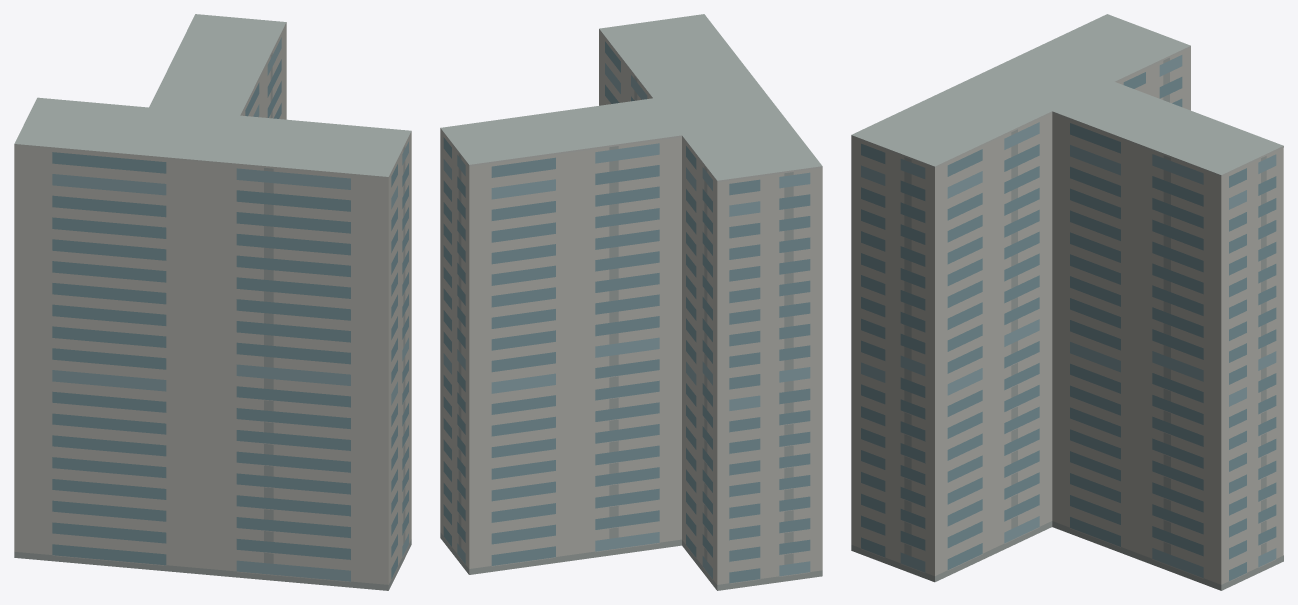
The model's file is residential-c745f206-960c-4d0f-bd46-d00c1bb6f246.glb.
The picture shows the model from 3 angles, left to right: view 1: azimuth 30°, elevation 25°; view 2: azimuth 150°, elevation 25°; view 3: azimuth 270°, elevation 25°; orthographic projection.
Visible parts, largest first — view 1: residential-c745f206-960c-4d0f-bd46-d00c1bb6f246.tmp; view 2: residential-c745f206-960c-4d0f-bd46-d00c1bb6f246.tmp; view 3: residential-c745f206-960c-4d0f-bd46-d00c1bb6f246.tmp.
Boxes of the visible parts, bbox=[...] form: residential-c745f206-960c-4d0f-bd46-d00c1bb6f246.tmp: bbox=[14, 14, 411, 590]; residential-c745f206-960c-4d0f-bd46-d00c1bb6f246.tmp: bbox=[440, 14, 822, 590]; residential-c745f206-960c-4d0f-bd46-d00c1bb6f246.tmp: bbox=[851, 14, 1283, 590].
Bounding box in the file's own units: 46.58 × 56 × 52.82.
